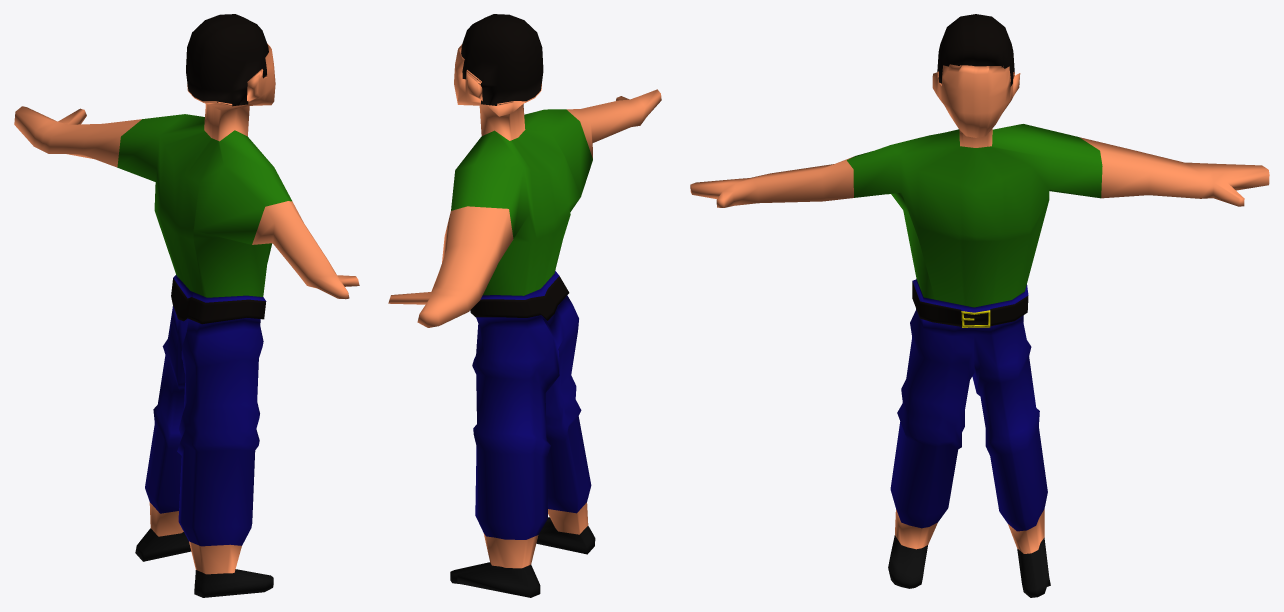
Rendered from player.fbx.
The picture shows the model from 3 angles, left to right: view 1: azimuth 30°, elevation 25°; view 2: azimuth 150°, elevation 25°; view 3: azimuth 270°, elevation 25°; orthographic projection. The views are drawn at different scales.
Parts seen in each view (by area): view 1: Cube; view 2: Cube; view 3: Cube.
Boxes of the visible parts, x1,y1,x2,y2 form: Cube: (14, 14, 359, 597); Cube: (388, 14, 661, 597); Cube: (690, 14, 1269, 597).
Size of the model in its own units: 93.47 by 400 by 371.
